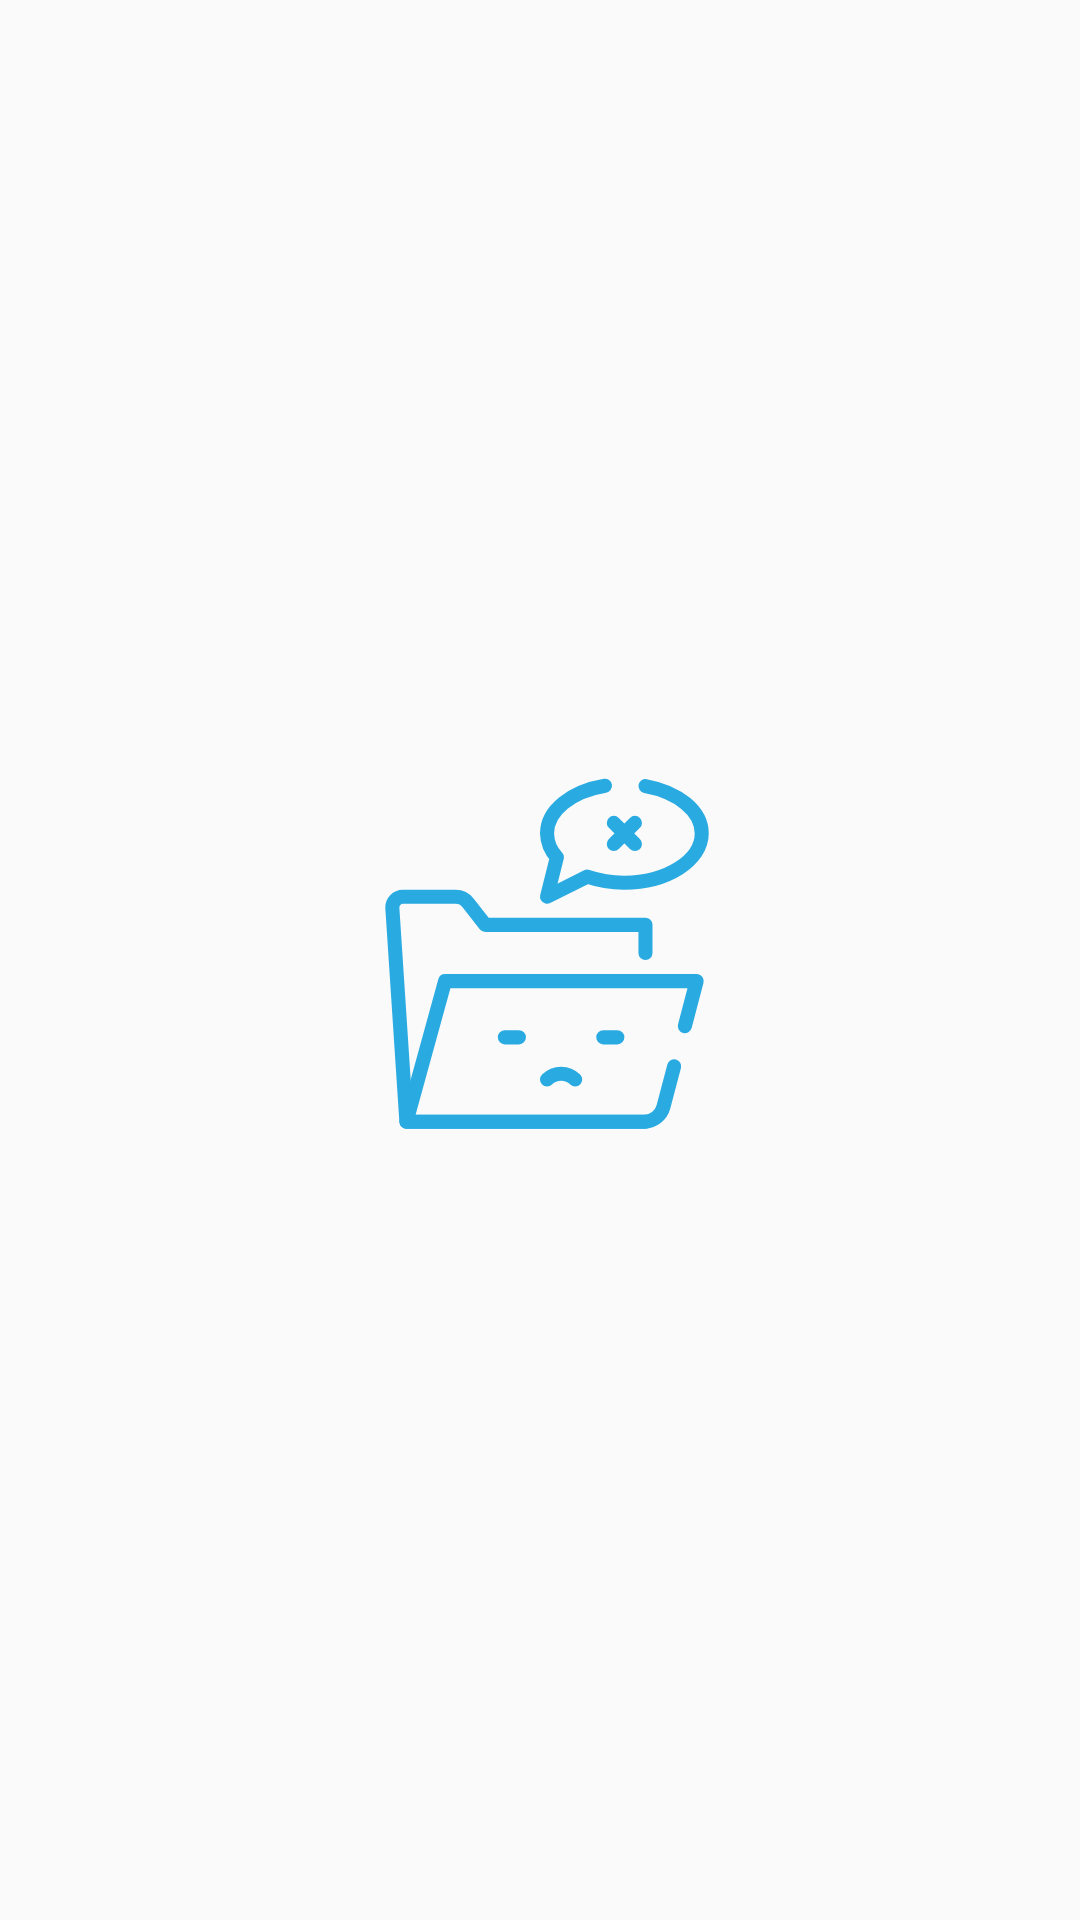

Icon click points for this 1080w x 1920h phone screenshot, format (x=x, y=y):
data not found: (x=547, y=953)
